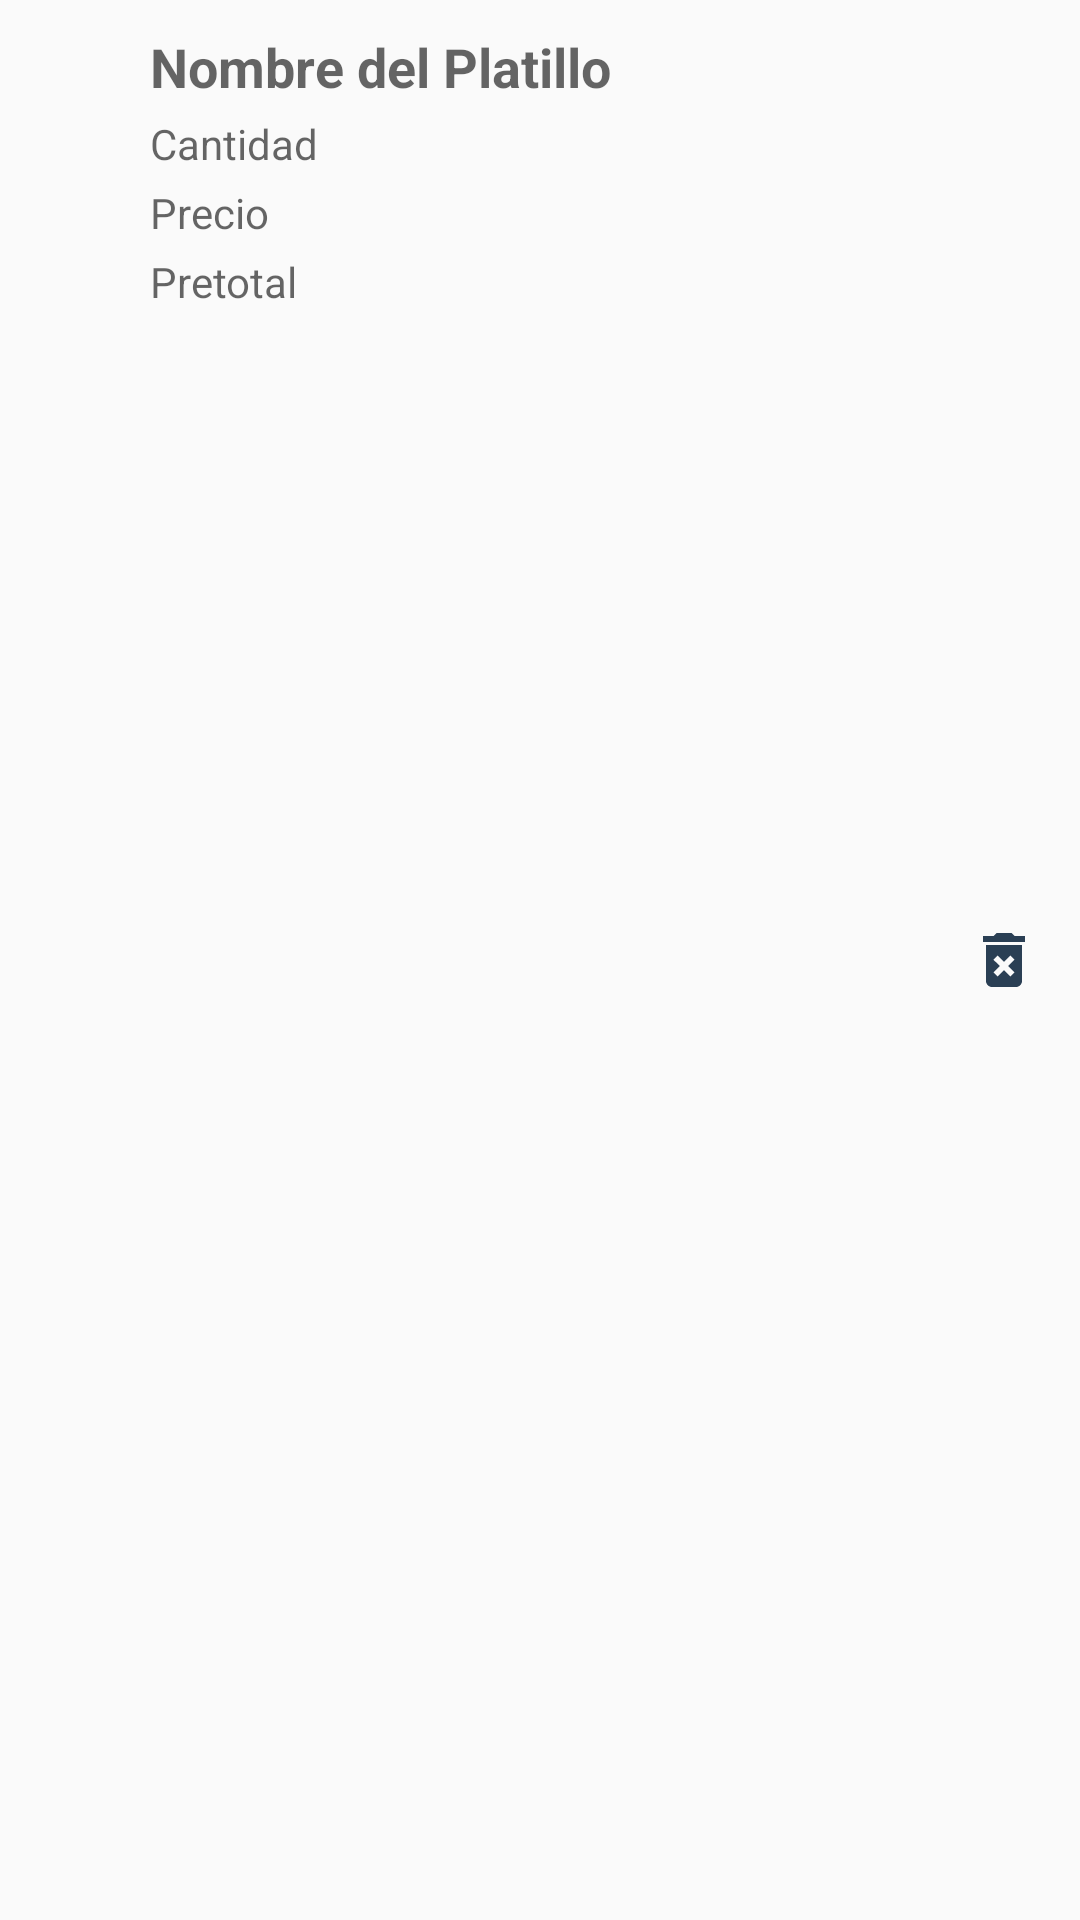

Icon bounding boxes for this 1080px x 1920px phone screenshot, format (x1, y1, x2, y2):
delete: (983, 933, 1025, 987)
